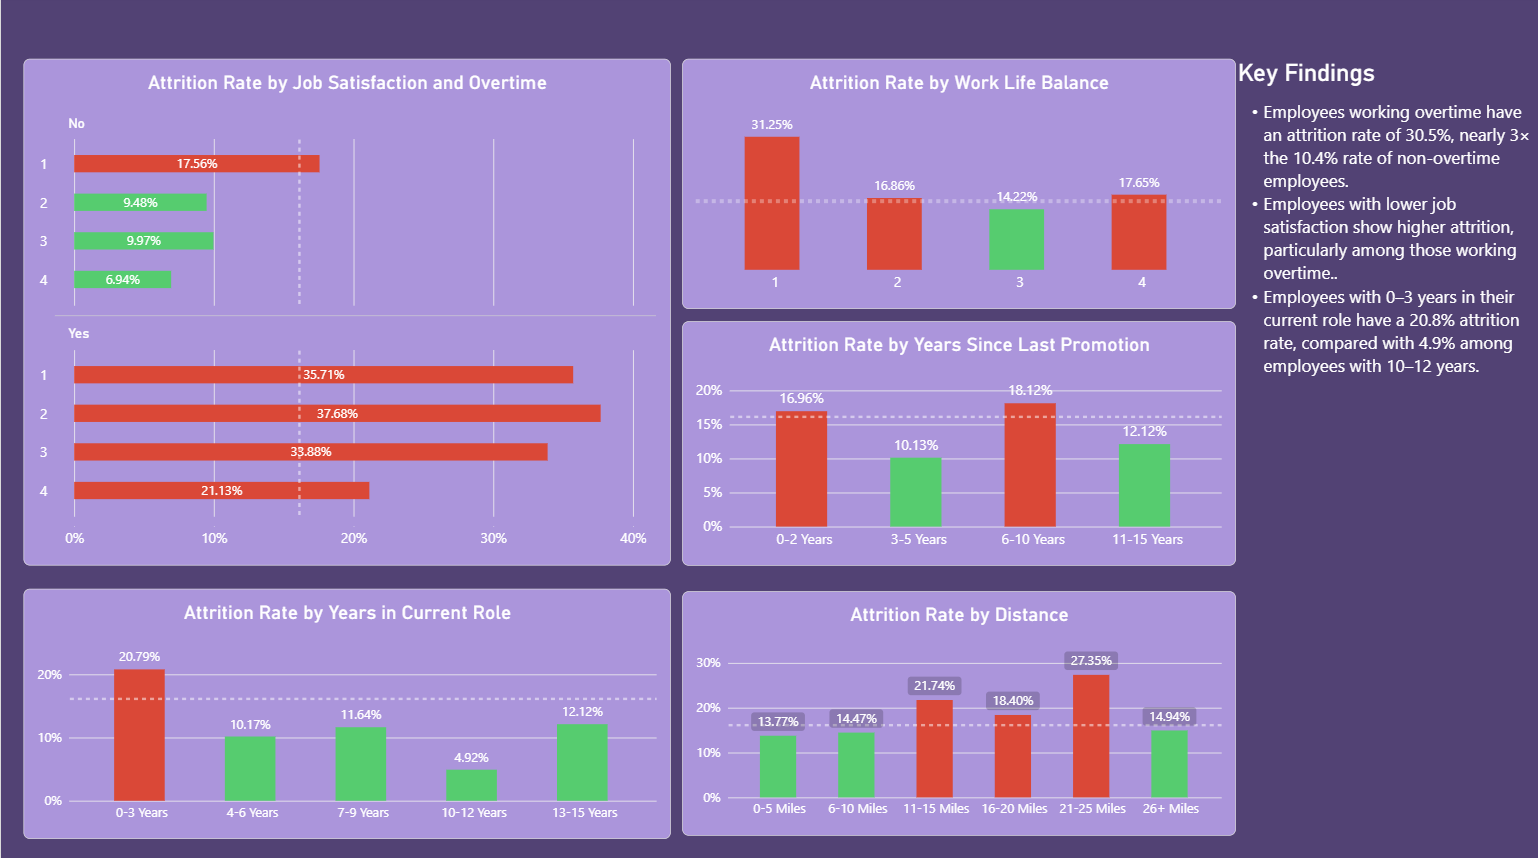

Layout of this report page (visuals, bound fields, positions):
{"tool":"powerbi","page":{"name":"Attrition Factors","canvas":[1920,1080],"ordinal":1},"visuals":[{"type":"clusteredBarChart","title":"Attrition Rate by Job Satisfaction and Overtime","fields":{"Category":["HR-Employee-Attrition.JobSatisfaction"],"Y":["_Measure.Attrition Rate"],"Rows":["HR-Employee-Attrition.OverTime"]},"box":[27.9,129.1,805.8,620.9],"z":0},{"type":"clusteredColumnChart","title":"Attrition Rate by Distance","fields":{"Category":["HR-Employee-Attrition.Distance Group"],"Y":["_Measure.Attrition Rate"]},"box":[849.4,772.7,689,280.8],"z":1000},{"type":"clusteredColumnChart","title":"Attrition Rate by Work Life Balance","fields":{"Category":["HR-Employee-Attrition.WorkLifeBalance"],"Y":["_Measure.Attrition Rate"]},"box":[849.4,129.1,689,280.8],"z":2000},{"type":"clusteredColumnChart","title":"Attrition Rate by Years Since Last Promotion","fields":{"Category":["HR-Employee-Attrition.Years Since Last Promotion Group"],"Y":["_Measure.Attrition Rate"]},"box":[849.4,425.6,689,324.4],"z":3000},{"type":"clusteredColumnChart","title":"Attrition Rate by Years in Current Role","fields":{"Category":["HR-Employee-Attrition.Years in Current Role Group"],"Y":["_Measure.Attrition Rate"]},"box":[27.9,772.7,805.8,280.8],"z":4000},{"type":"textbox","title":"Key Findings","box":[1538.4,129.1,380.8,459.6],"z":5000},{"type":"textbox","box":[490.1,17.4,875.6,111.6],"z":5001}]}

Visuals, with their boxes in screenshot pixels (x1, y1, x2, y2), scaled from the page's 1920x1080 canvas onto the 1538x858 screenshot:
"Attrition Rate by Job Satisfaction and Overtime" clusteredBarChart: 22,103,668,596
"Attrition Rate by Distance" clusteredColumnChart: 680,614,1232,837
"Attrition Rate by Work Life Balance" clusteredColumnChart: 680,103,1232,326
"Attrition Rate by Years Since Last Promotion" clusteredColumnChart: 680,338,1232,596
"Attrition Rate by Years in Current Role" clusteredColumnChart: 22,614,668,837
"Key Findings" textbox: 1232,103,1537,468
textbox: 393,14,1094,102
